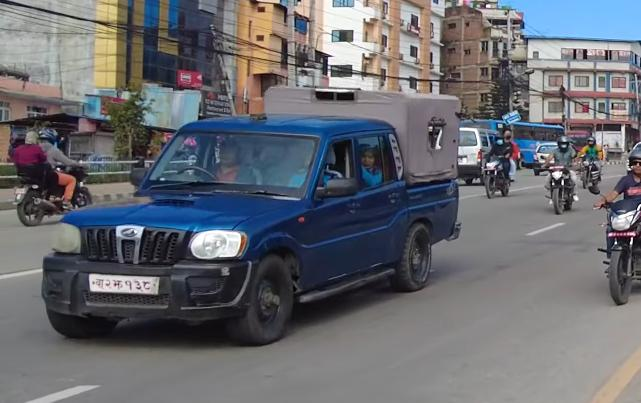police_vehicle: (37, 83, 466, 355)
